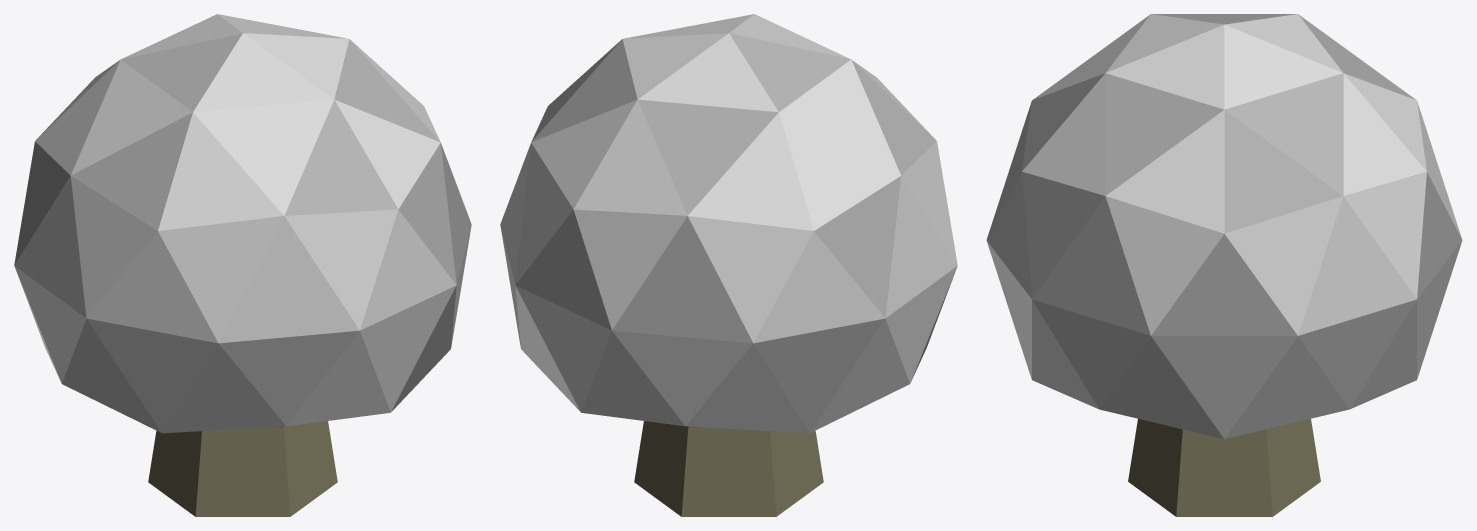
The model's file is Mushroom_1_White.fbx.
The picture shows the model from 3 angles, left to right: view 1: azimuth 30°, elevation 25°; view 2: azimuth 150°, elevation 25°; view 3: azimuth 270°, elevation 25°; orthographic projection.
Parts seen in each view (by area): view 1: Mushroom_1_White; view 2: Mushroom_1_White; view 3: Mushroom_1_White.
Part boxes in pixels (x1=…): Mushroom_1_White: x1=14, y1=14, x2=471, y2=516; Mushroom_1_White: x1=500, y1=14, x2=957, y2=516; Mushroom_1_White: x1=986, y1=14, x2=1462, y2=516.
Bounding box in the file's own units: 46.91 × 52.26 × 49.33.
